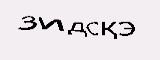Д: (66, 20, 87, 36)
З: (16, 12, 39, 31)
И: (38, 14, 65, 33)
С: (87, 19, 100, 37)
Э: (119, 17, 138, 40)
Қ: (101, 17, 117, 39)
